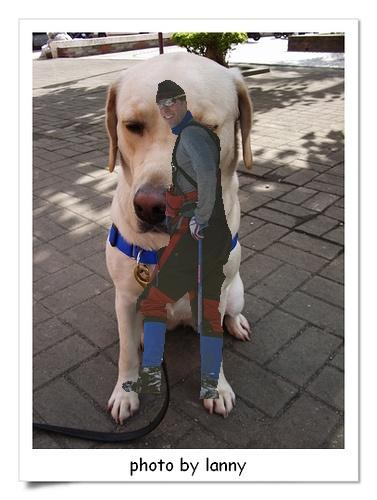tampered: (123, 81, 232, 399)
